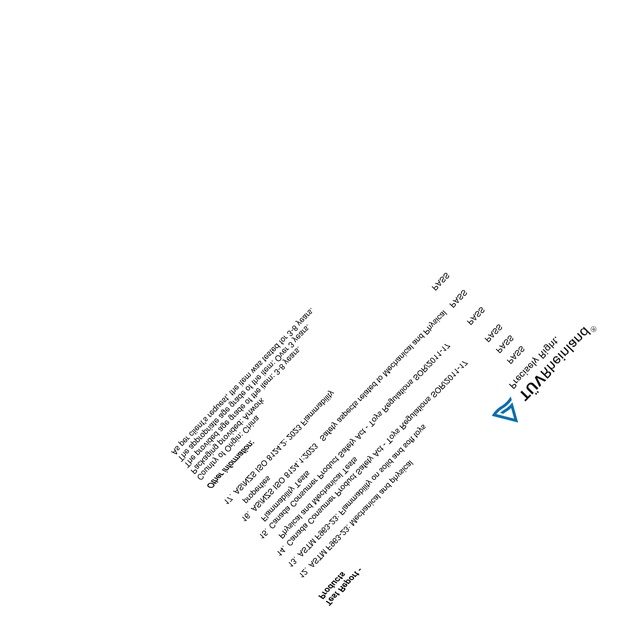tuv_rheinland: (491, 321, 596, 423)
